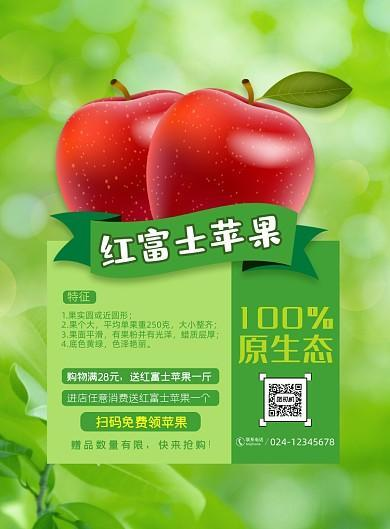apple: (146, 82, 314, 220), (53, 80, 183, 215)
